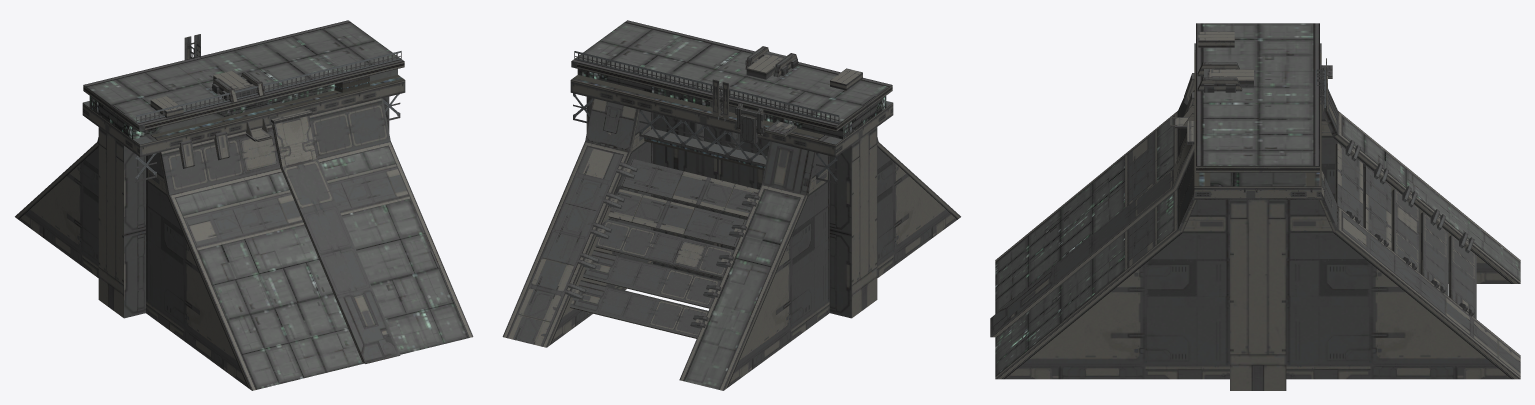
The model's file is Wall_Large2.gltf.
3 renders of one model, left to right at view 1: azimuth 30°, elevation 25°; view 2: azimuth 150°, elevation 25°; view 3: azimuth 270°, elevation 25°, orthographic. The views are drawn at different scales.
Visible parts, largest first — view 1: Wall_Large2; view 2: Wall_Large2; view 3: Wall_Large2.
Part boxes in pixels (<box>): Wall_Large2: <box>15,20,473,390</box>; Wall_Large2: <box>502,20,960,390</box>; Wall_Large2: <box>990,23,1520,390</box>.
Size of the model in its own units: 50 by 40.21 by 78.43.
Materials: 2 (2 with a texture image).
